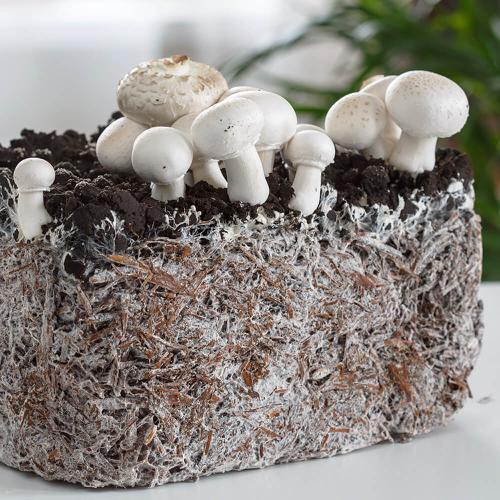Button Mushroom: (105, 34, 232, 142), (383, 67, 473, 176), (189, 96, 270, 208), (266, 122, 340, 218), (123, 120, 197, 205), (236, 86, 302, 178), (319, 88, 394, 167), (90, 112, 149, 179), (11, 157, 55, 239), (374, 116, 404, 160)
